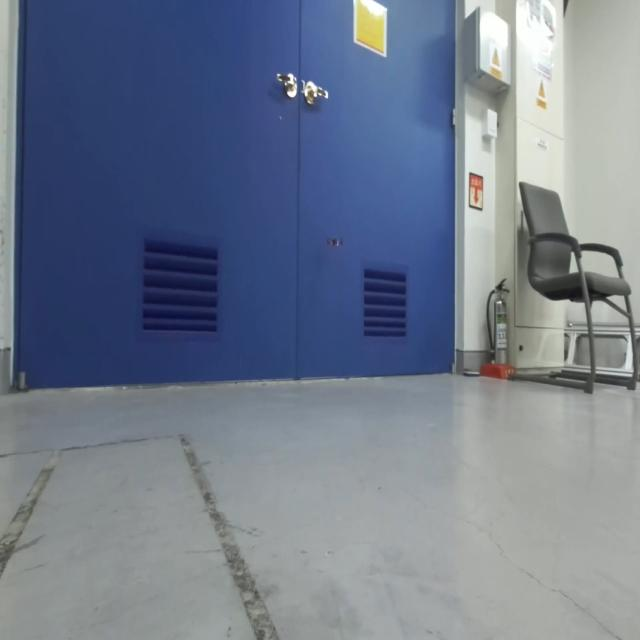crazyflie: (322, 227, 348, 258)
